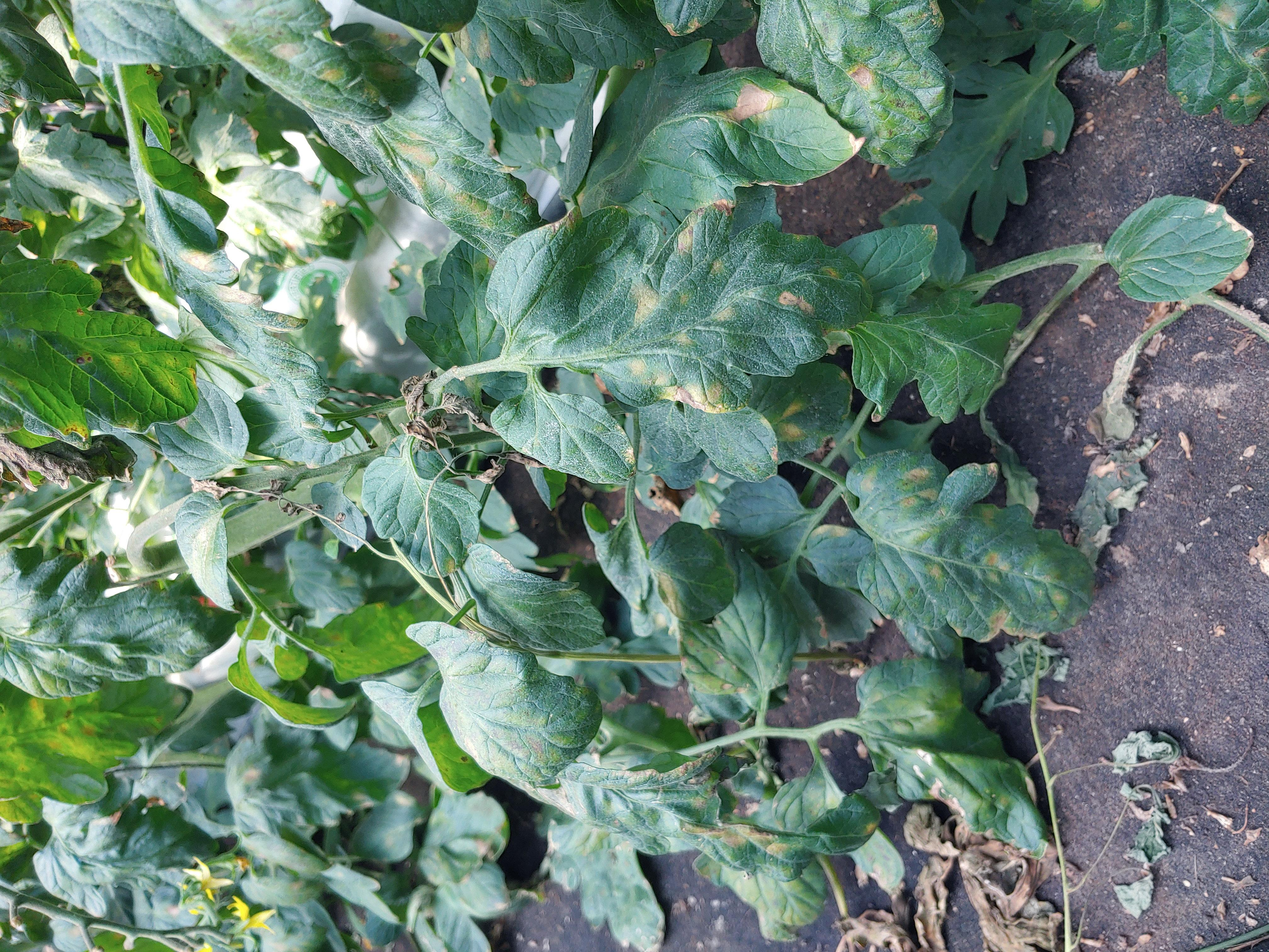Leaf Mold: (489, 192, 875, 417), (311, 41, 541, 258), (845, 450, 1097, 642), (589, 37, 865, 207), (0, 256, 206, 437), (405, 620, 603, 789), (489, 388, 639, 487), (653, 520, 735, 624)
